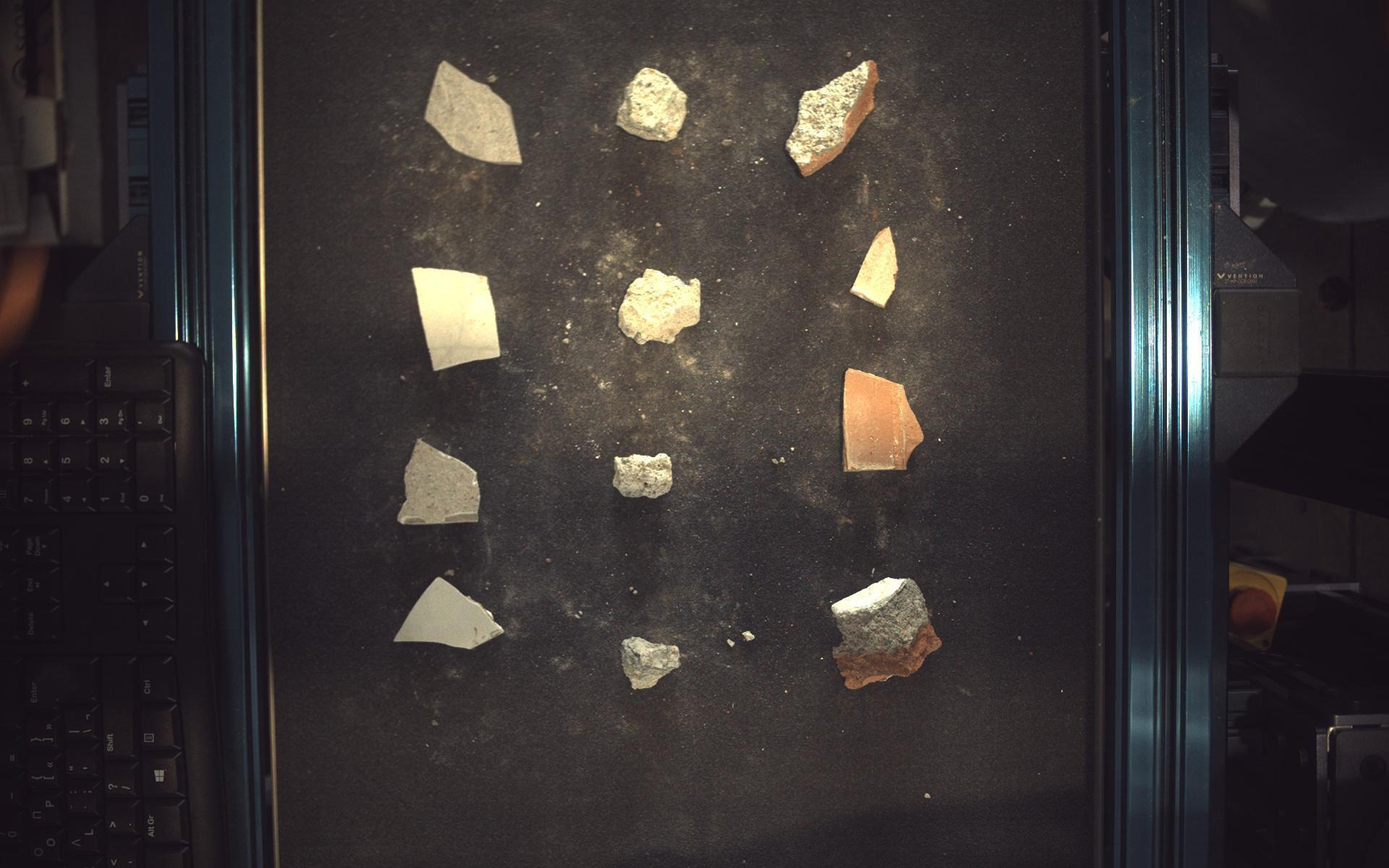brick: (787, 59, 880, 176), (845, 368, 926, 472), (851, 226, 900, 307)
concrete: (833, 578, 943, 691), (619, 268, 702, 344), (617, 67, 688, 140), (624, 638, 680, 691), (613, 453, 673, 498)
tile: (425, 59, 522, 163), (412, 267, 501, 370), (394, 578, 504, 650), (397, 439, 480, 525)
